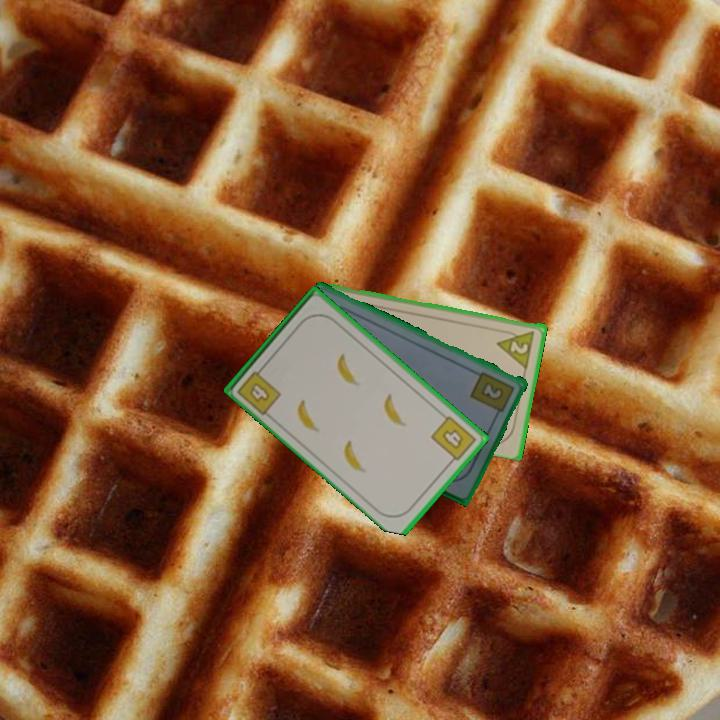2b: (467, 368, 518, 419)
2p: (494, 325, 538, 370)
4b: (427, 412, 479, 467), (233, 362, 284, 417)
